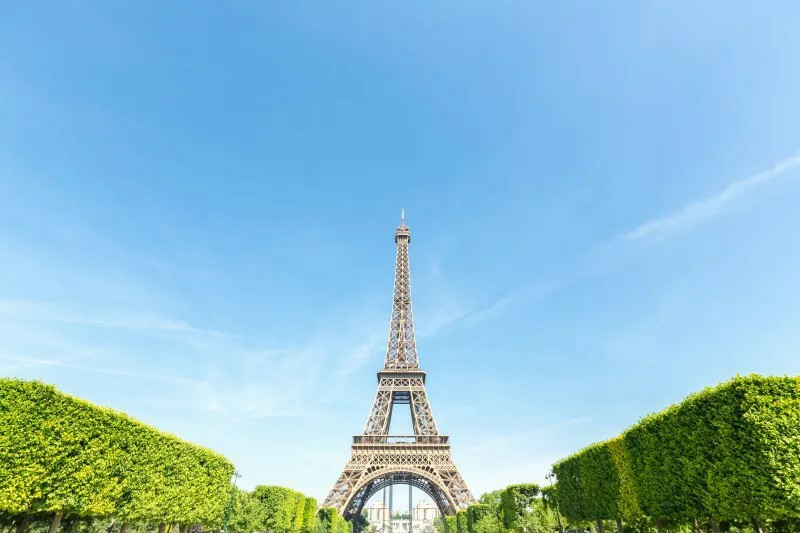Eiffel: (315, 208, 478, 516)
